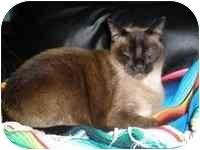siamese: (106, 14, 169, 83)
